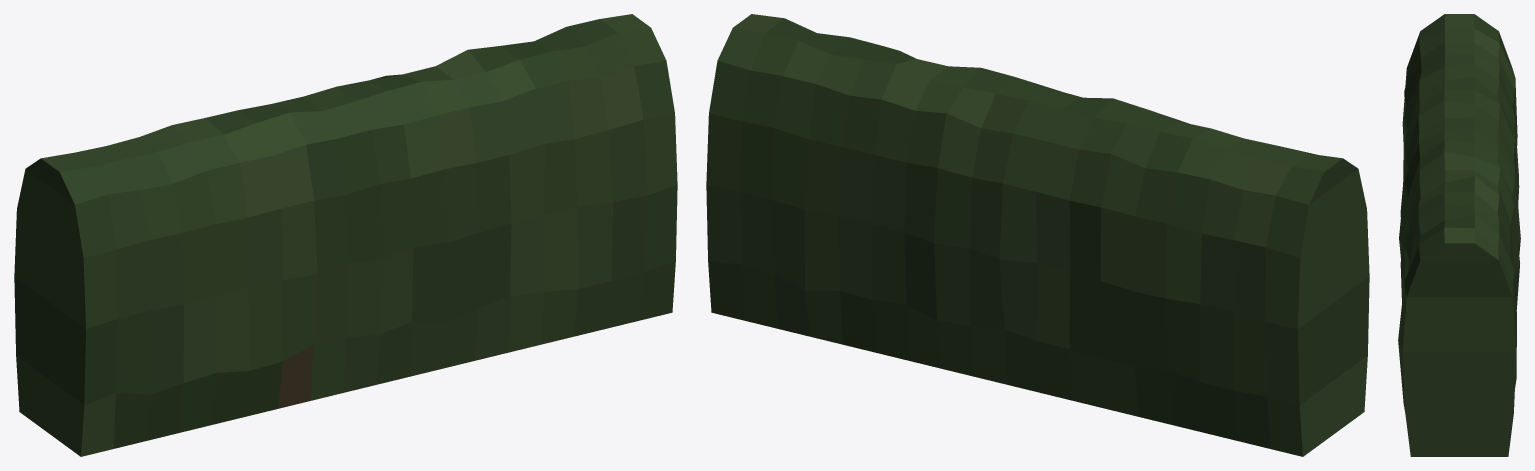
File: hedge-row.glb
3 views of the same model, side by side, from view 1: azimuth 30°, elevation 25°; view 2: azimuth 150°, elevation 25°; view 3: azimuth 270°, elevation 25° (orthographic). The views are drawn at different scales.
Visible parts, largest first — view 1: hedge-row; view 2: hedge-row; view 3: hedge-row.
Part boxes in pixels (box(x1,y1,x2,y2)): hedge-row: box(14, 14, 677, 456); hedge-row: box(706, 14, 1369, 456); hedge-row: box(1398, 14, 1520, 456).
Bounding box in the file's own units: 4 × 1.77 × 0.9058.
